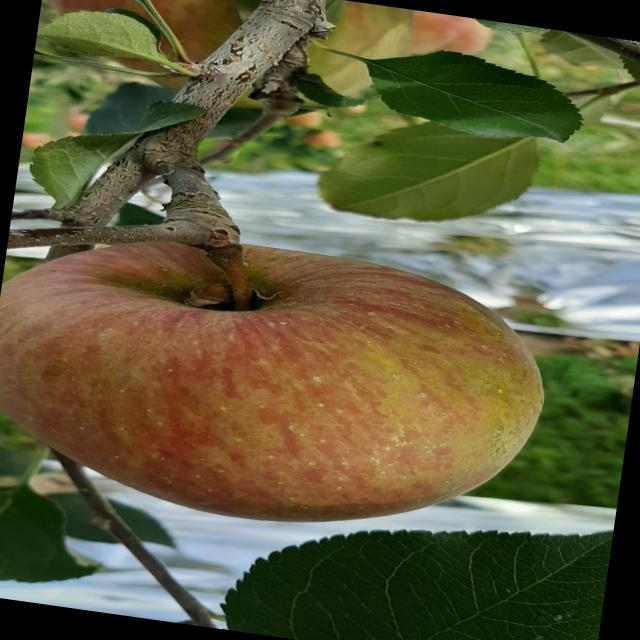fresh: (1, 197, 570, 565)
